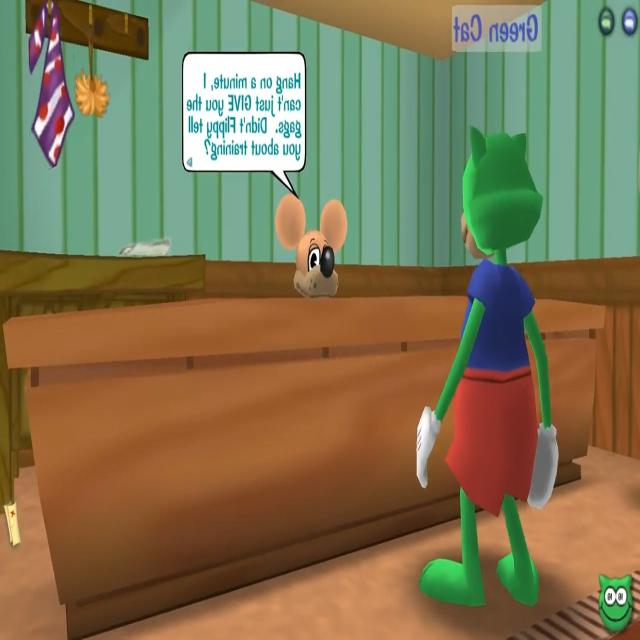npc: (276, 196, 348, 300)
